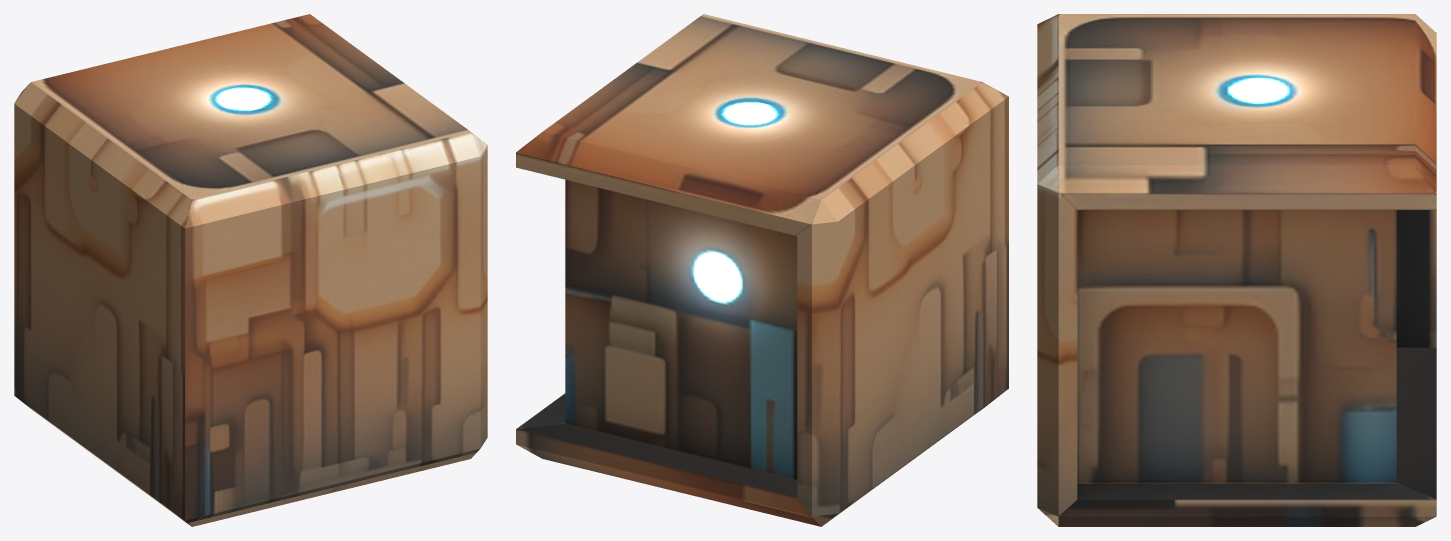
The model's file is city_asset_1.glb.
The picture shows the model from 3 angles, left to right: view 1: azimuth 30°, elevation 25°; view 2: azimuth 150°, elevation 25°; view 3: azimuth 270°, elevation 25°; orthographic projection. The views are drawn at different scales.
Parts seen in each view (by area): view 1: Cube.003; view 2: Cube.003; view 3: Cube.003.
Part boxes in pixels (x1,y1,x2,y2): Cube.003: [14, 14, 487, 526]; Cube.003: [516, 14, 1008, 526]; Cube.003: [1037, 14, 1436, 526].
Size of the model in its own units: 1 by 1 by 1.
Materials: 1 (1 with a texture image).
